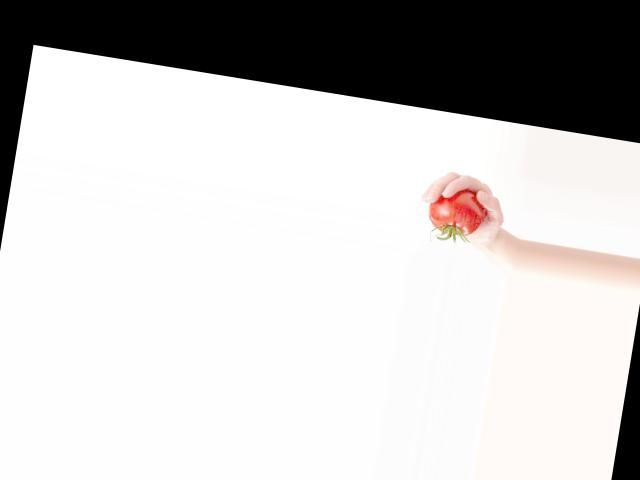tomato: (425, 184, 486, 239)
